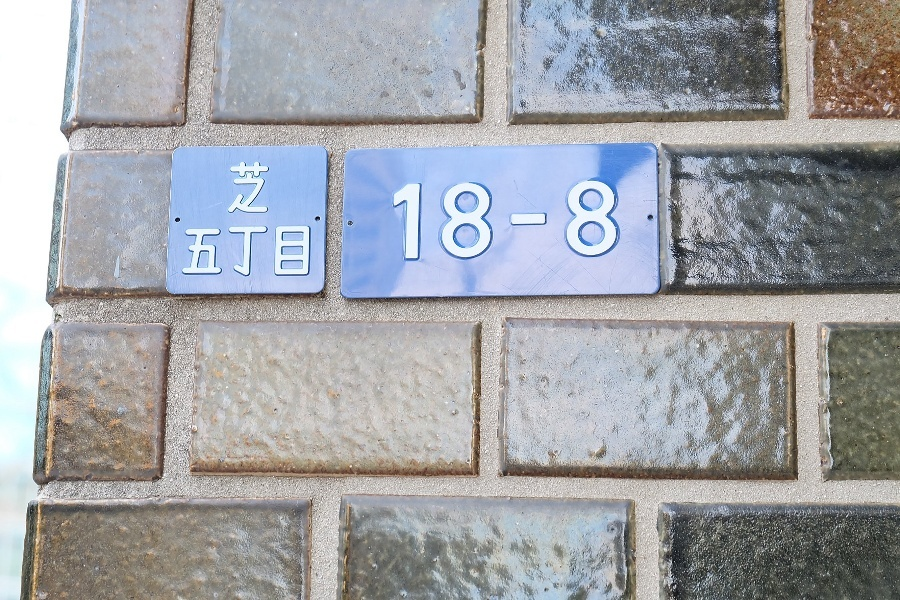text: (401, 178, 416, 267), (417, 178, 432, 267), (433, 178, 448, 267), (449, 178, 464, 267), (465, 178, 480, 267), (481, 178, 496, 267), (497, 178, 512, 267), (513, 178, 528, 267), (529, 178, 544, 267), (545, 178, 560, 267), (561, 178, 576, 267), (577, 178, 592, 267), (593, 178, 608, 267), (609, 178, 624, 267), (389, 178, 400, 267), (241, 161, 256, 216), (193, 224, 208, 278), (209, 224, 224, 278), (225, 224, 240, 278), (241, 224, 256, 278), (257, 224, 272, 278), (273, 224, 288, 278), (289, 224, 304, 278), (257, 161, 270, 216), (229, 161, 240, 216), (183, 224, 192, 278), (305, 224, 314, 278)
